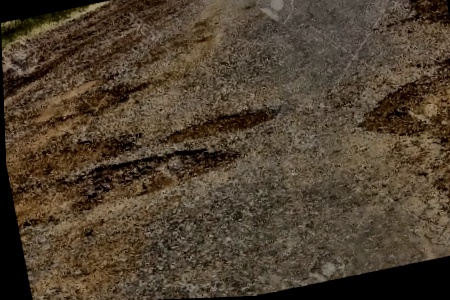pothole: (58, 135, 244, 220), (347, 53, 450, 157), (159, 101, 282, 148), (404, 0, 450, 34)
